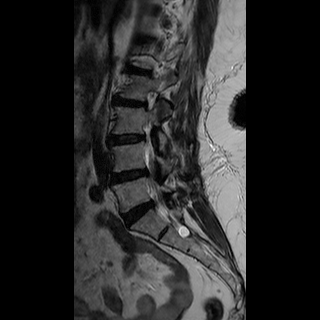RFS0: (138, 83, 161, 115)
